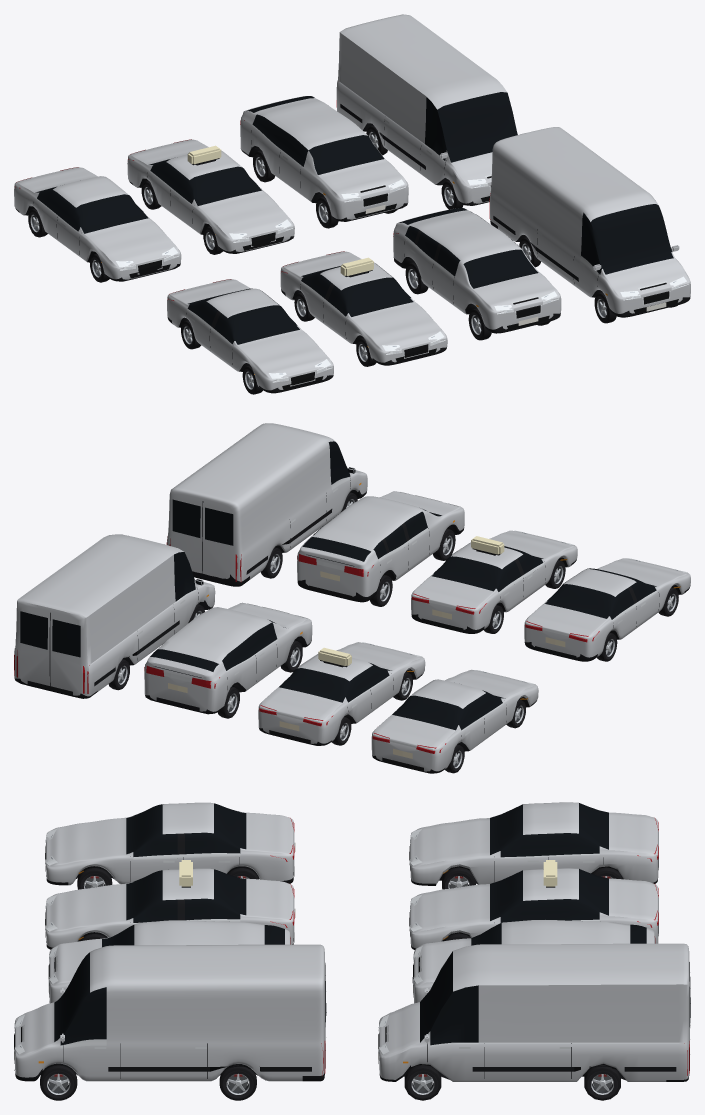
The model's file is cars.glb.
The picture shows the model from 3 angles, top to bottom: view 1: azimuth 30°, elevation 25°; view 2: azimuth 150°, elevation 25°; view 3: azimuth 270°, elevation 25°; orthographic projection. The views are drawn at different scales.
Visible parts, largest first — view 1: van, van_lo, suv_lo, suv, taxi_lo, sedan_lo, taxi, sedan; view 2: van_lo, van, suv_lo, suv, taxi_lo, sedan_lo, taxi, sedan; view 3: van_lo, van, sedan_lo, sedan, taxi, taxi_lo, suv, suv_lo.
Boxes of the visible parts, x1,y1,x2,y2 form: van: [489, 127, 690, 323]; van_lo: [336, 14, 523, 209]; suv_lo: [240, 96, 408, 228]; suv: [393, 208, 561, 340]; taxi_lo: [127, 139, 294, 254]; sedan_lo: [14, 167, 181, 282]; taxi: [280, 251, 447, 366]; sedan: [167, 279, 333, 394]; van_lo: [14, 534, 215, 698]; van: [166, 423, 367, 586]; suv_lo: [144, 602, 312, 718]; suv: [297, 491, 464, 606]; taxi_lo: [258, 642, 425, 745]; sedan_lo: [371, 669, 538, 773]; taxi: [411, 530, 577, 633]; sedan: [524, 558, 690, 661]; van_lo: [378, 943, 690, 1100]; van: [14, 944, 326, 1100]; sedan_lo: [409, 802, 658, 889]; sedan: [45, 802, 295, 889]; taxi: [45, 860, 295, 949]; taxi_lo: [409, 860, 658, 949]; suv: [48, 920, 290, 1003]; suv_lo: [412, 920, 655, 1003].
Size of the model in its own units: 11.08 by 2.54 by 13.01.
